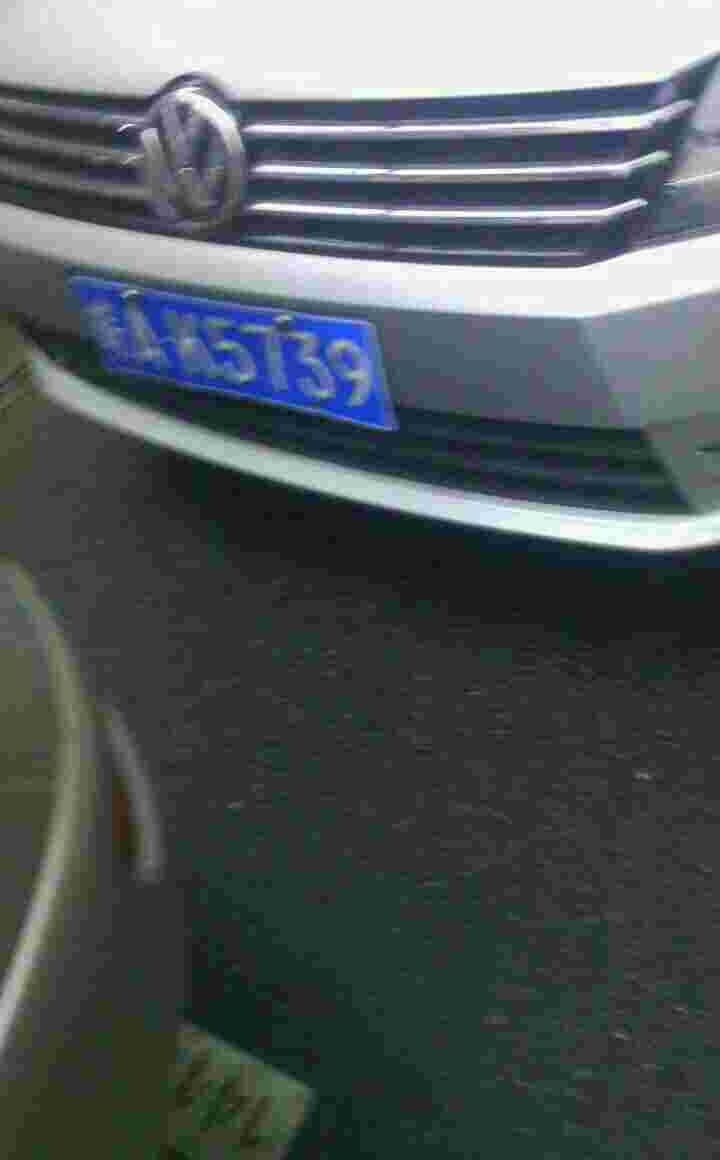license_plate: (82, 275, 393, 420)
